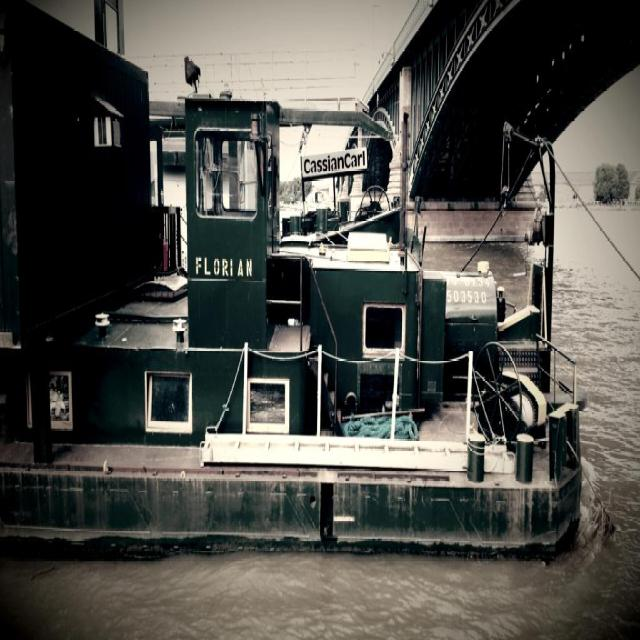Boat: (0, 0, 581, 567)
